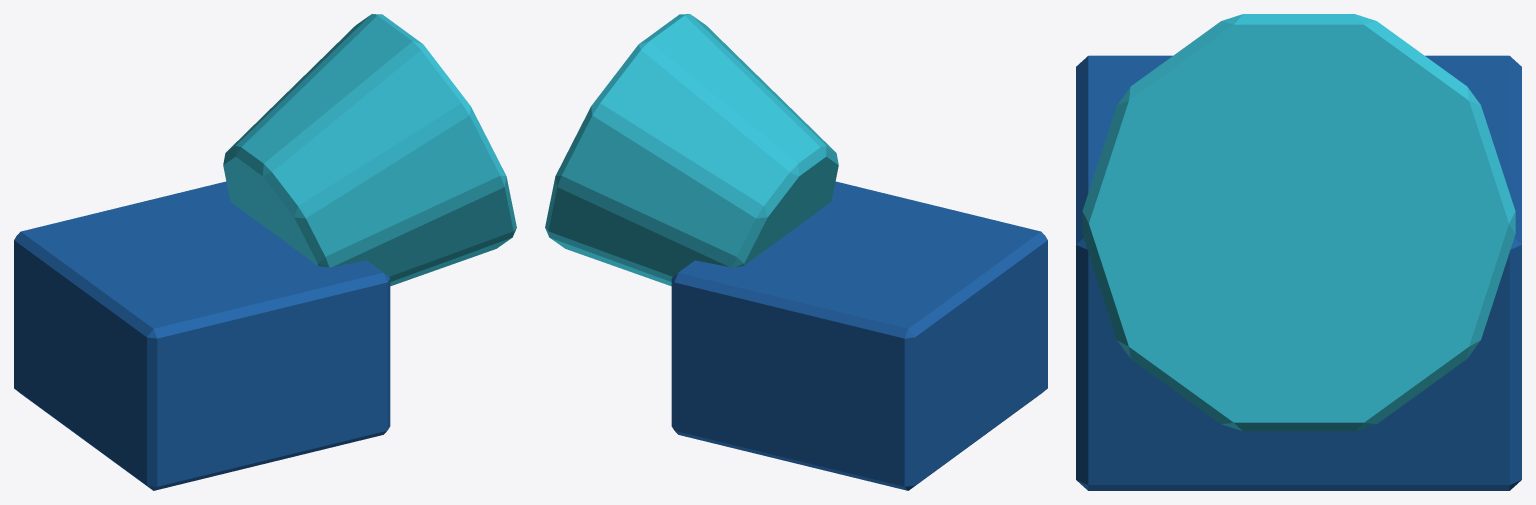
The model's file is waterfall_switch.glb.
3 views of the same model, side by side, from view 1: azimuth 30°, elevation 25°; view 2: azimuth 150°, elevation 25°; view 3: azimuth 270°, elevation 25° (orthographic). The views are drawn at different scales.
Visible parts, largest first — view 1: waterfall_switch; view 2: waterfall_switch; view 3: waterfall_switch.
Boxes of the visible parts, x1,y1,x2,y2 form: waterfall_switch: (14,14,516,490); waterfall_switch: (545,14,1047,490); waterfall_switch: (1076,14,1521,490).
Size of the model in its own units: 0.3589 by 0.2925 by 0.22.
